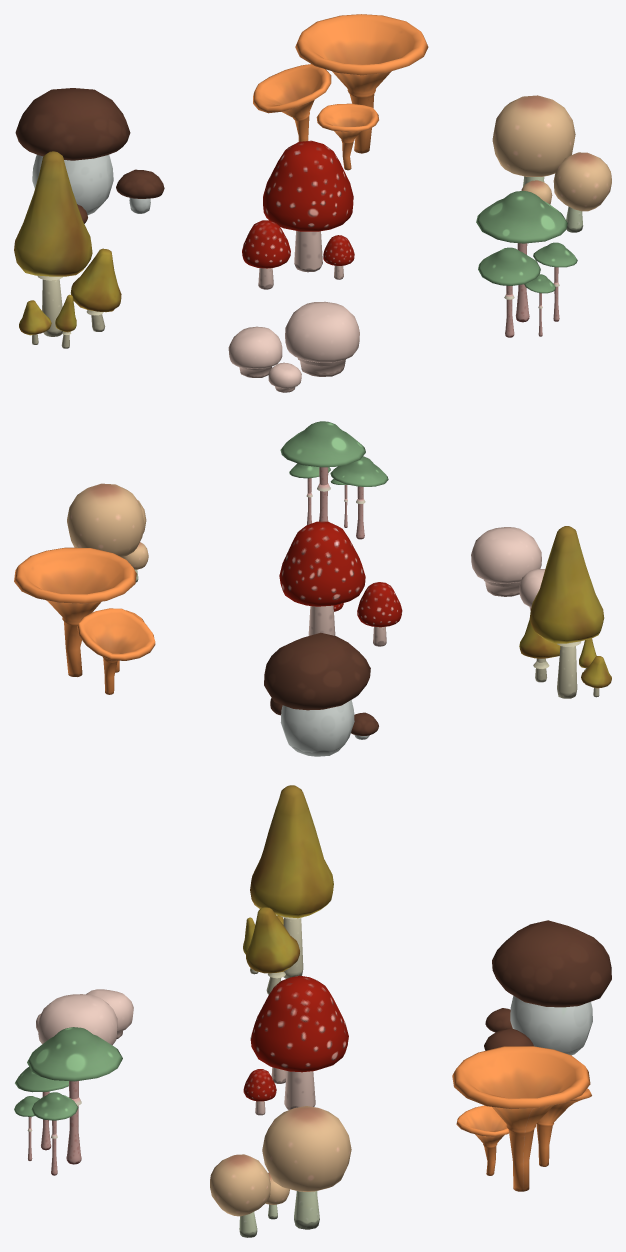
File: mushrooms.gltf
The picture shows the model from 3 angles, top to bottom: view 1: azimuth 30°, elevation 25°; view 2: azimuth 150°, elevation 25°; view 3: azimuth 270°, elevation 25°; orthographic projection. The views are drawn at different scales.
Parts seen in each view (by area): view 1: Object_7, Object_8, Object_4, Object_3, Object_6, Object_5, Object_2; view 2: Object_7, Object_3, Object_8, Object_4, Object_5, Object_6, Object_2; view 3: Object_3, Object_7, Object_8, Object_6, Object_4, Object_5, Object_2.
Part boxes in pixels (x1=…): Object_7: x1=253, y1=14, x2=428, y2=170; Object_8: x1=14, y1=151, x2=121, y2=348; Object_4: x1=242, y1=140, x2=354, y2=289; Object_3: x1=15, y1=88, x2=164, y2=223; Object_6: x1=492, y1=95, x2=611, y2=232; Object_5: x1=476, y1=191, x2=577, y2=337; Object_2: x1=228, y1=301, x2=359, y2=392; Object_7: x1=14, y1=547, x2=155, y2=694; Object_3: x1=264, y1=632, x2=378, y2=756; Object_8: x1=519, y1=526, x2=611, y2=698; Object_4: x1=279, y1=521, x2=402, y2=646; Object_5: x1=280, y1=421, x2=388, y2=539; Object_6: x1=67, y1=483, x2=148, y2=582; Object_2: x1=471, y1=527, x2=545, y2=610; Object_3: x1=484, y1=920, x2=611, y2=1055; Object_7: x1=452, y1=1046, x2=591, y2=1191; Object_8: x1=243, y1=785, x2=333, y2=994; Object_6: x1=210, y1=1106, x2=351, y2=1237; Object_4: x1=243, y1=975, x2=348, y2=1115; Object_5: x1=14, y1=1027, x2=122, y2=1175; Object_2: x1=36, y1=989, x2=133, y2=1045.
Bounding box in the file's own units: 3.45 × 1.07 × 3.01.
Materials: 7 (7 with a texture image).
